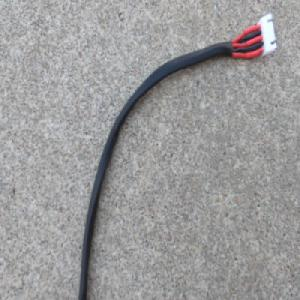Wire: (78, 11, 277, 300)
